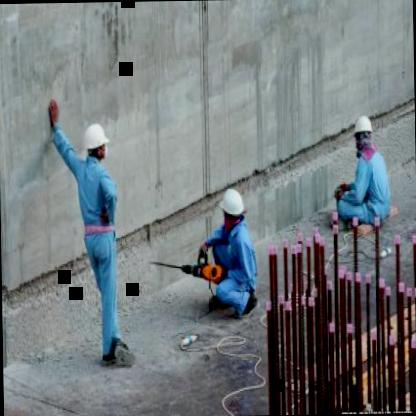helmet: (82, 121, 110, 163), (218, 187, 247, 227), (352, 112, 374, 157)
